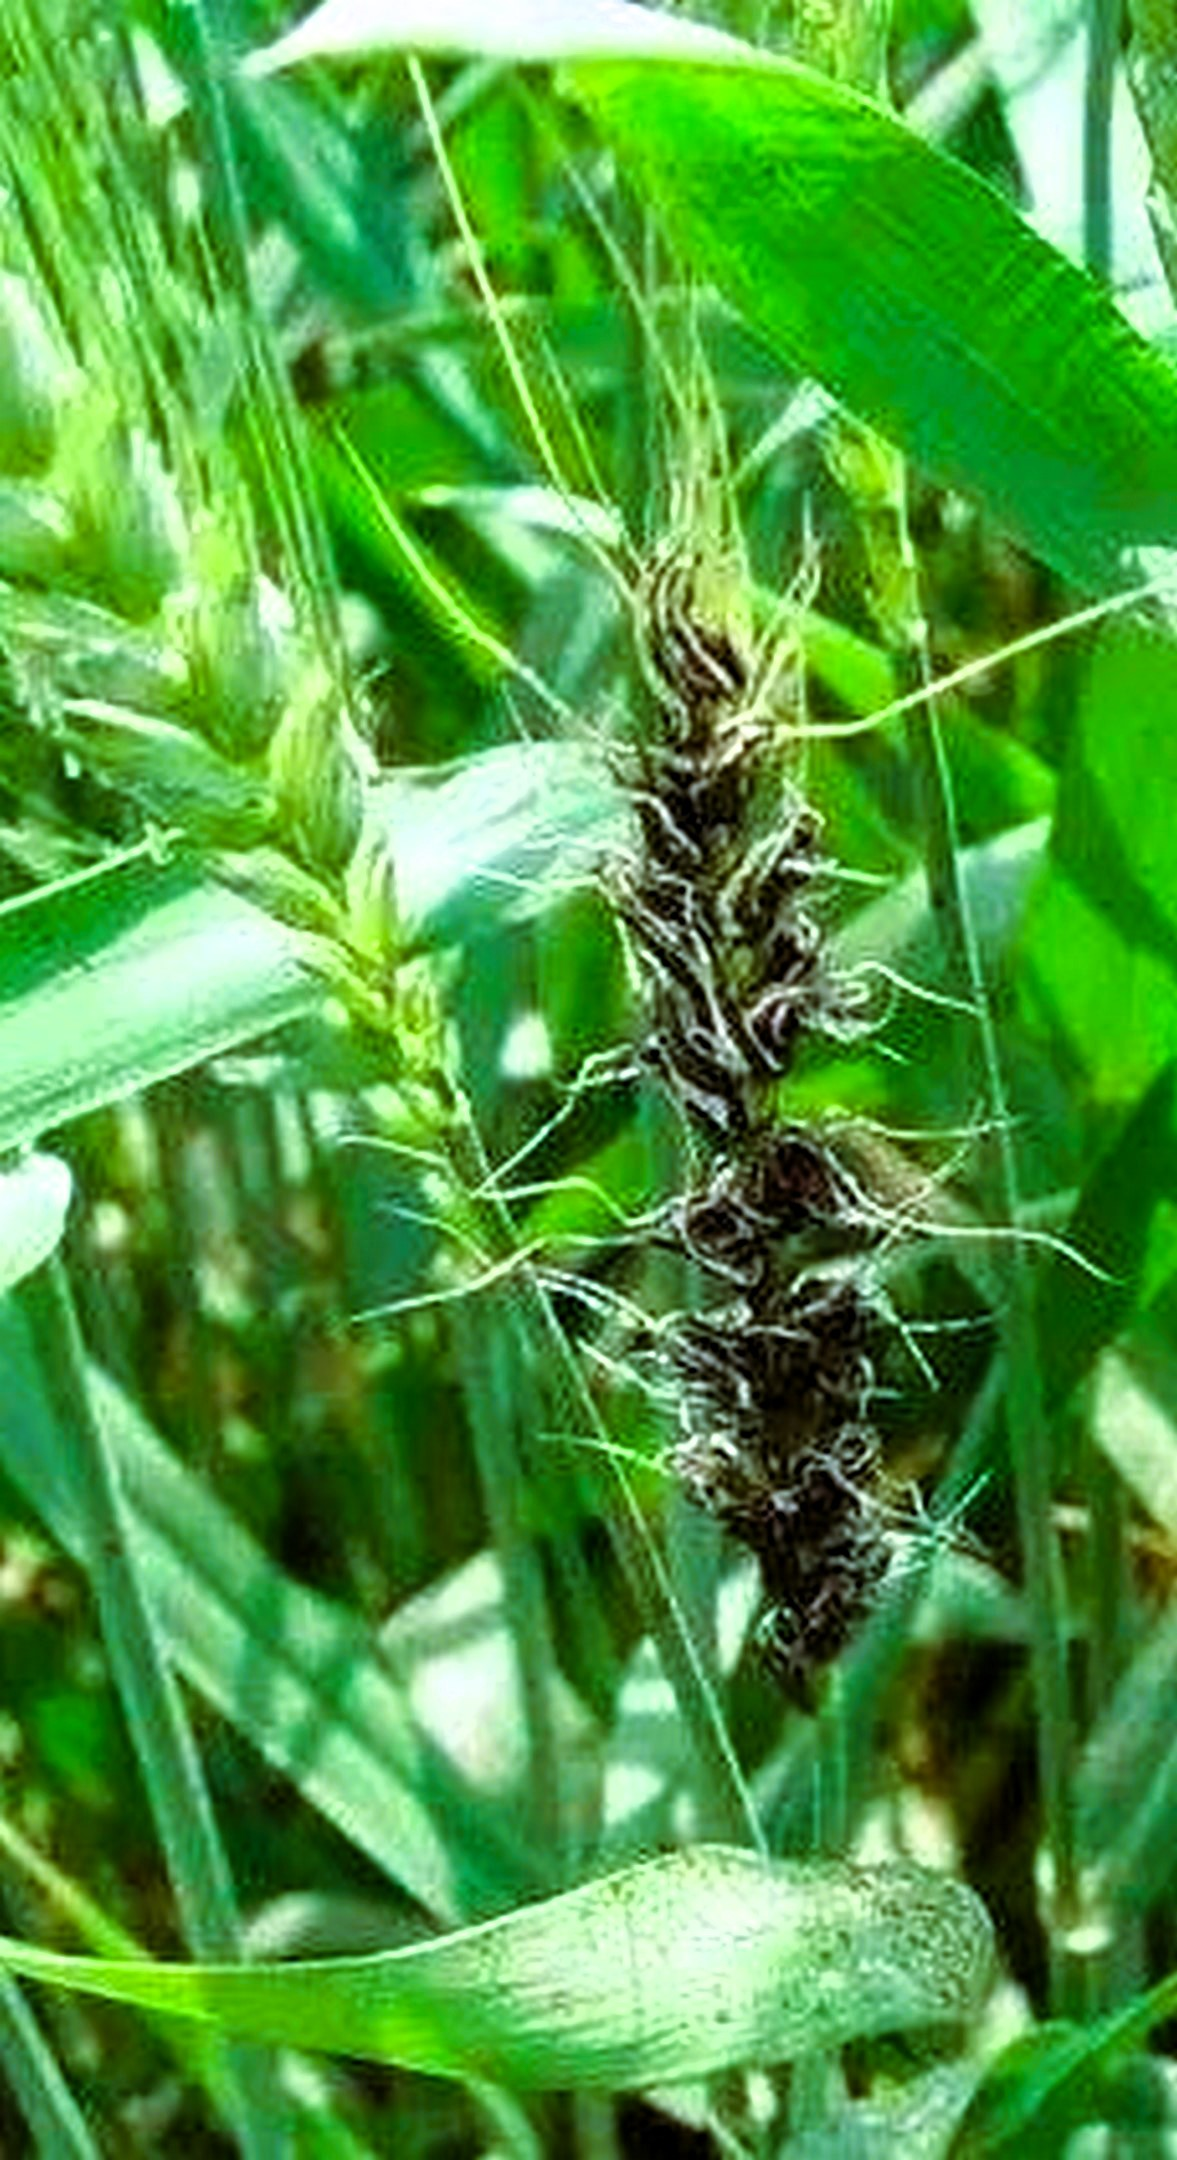Wheat Loose Smut: (533, 574, 938, 1582)
